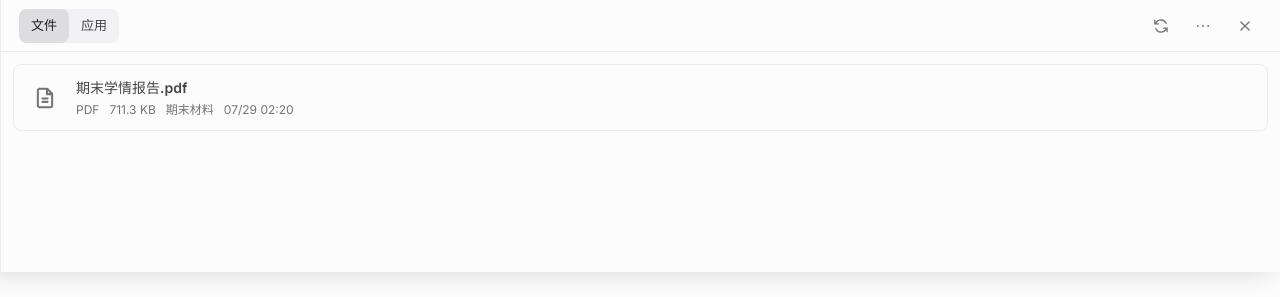
Test: CloudArtifactsPanel › shows files and apps with legacy results available from the overflow
Click the heading named "更多操作": (1203, 26) [1195,18,1211,34]
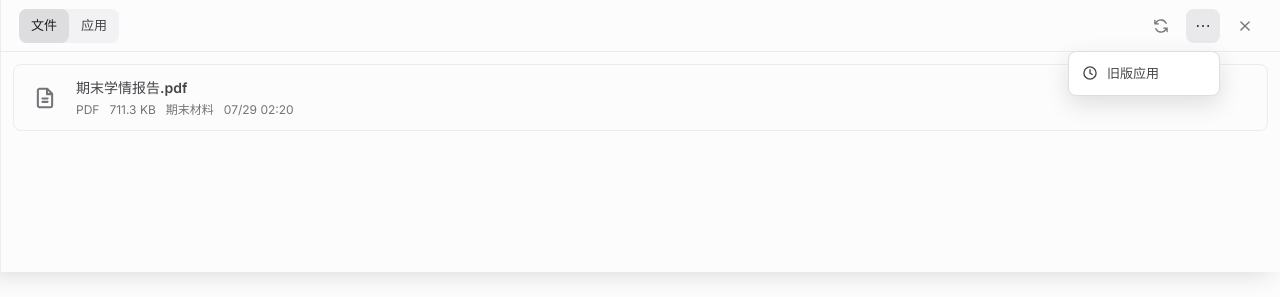
Click the button "旧版应用": (1144, 73) [1073,56,1215,91]
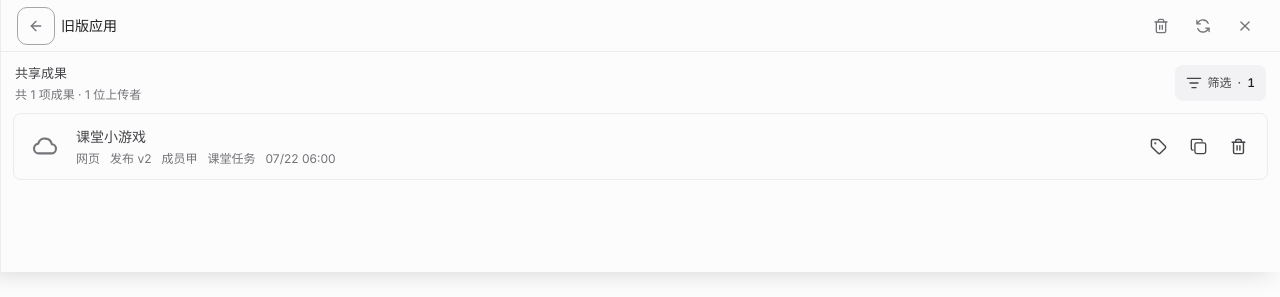
Expected: the element with class "cloud-artifacts-overflow" is gone
Expected: the button named "返回文件" is shown, [19,8,53,42]
Expected: the text "共享成果" is shown, [15,65,67,81]
